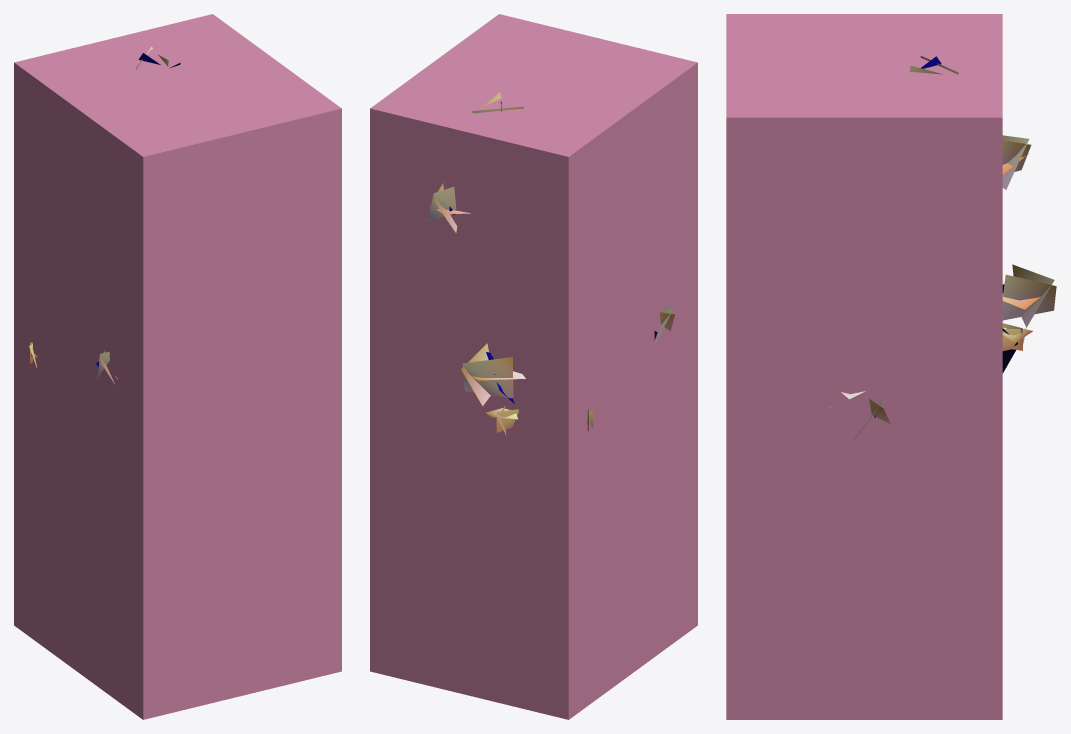
The model's file is tree_oak_forest_group.dae.
The picture shows the model from 3 angles, left to right: view 1: azimuth 30°, elevation 25°; view 2: azimuth 150°, elevation 25°; view 3: azimuth 270°, elevation 25°; orthographic projection. The views are drawn at different scales.
Parts seen in each view (by area): view 1: Untitled; view 2: Untitled, tree_oak_forest_b220, tree_oak_forest_b650; view 3: Untitled, tree_oak_forest_b650.
Boxes of the visible parts, bbox=[...] form: Untitled: bbox=[14, 14, 341, 719]; Untitled: bbox=[370, 14, 697, 719]; tree_oak_forest_b220: bbox=[428, 92, 674, 424]; tree_oak_forest_b650: bbox=[430, 102, 674, 435]; Untitled: bbox=[726, 14, 1002, 719]; tree_oak_forest_b650: bbox=[830, 56, 1056, 424].
Bounding box in the file's own units: 7.46 × 9.04 × 18.64.
